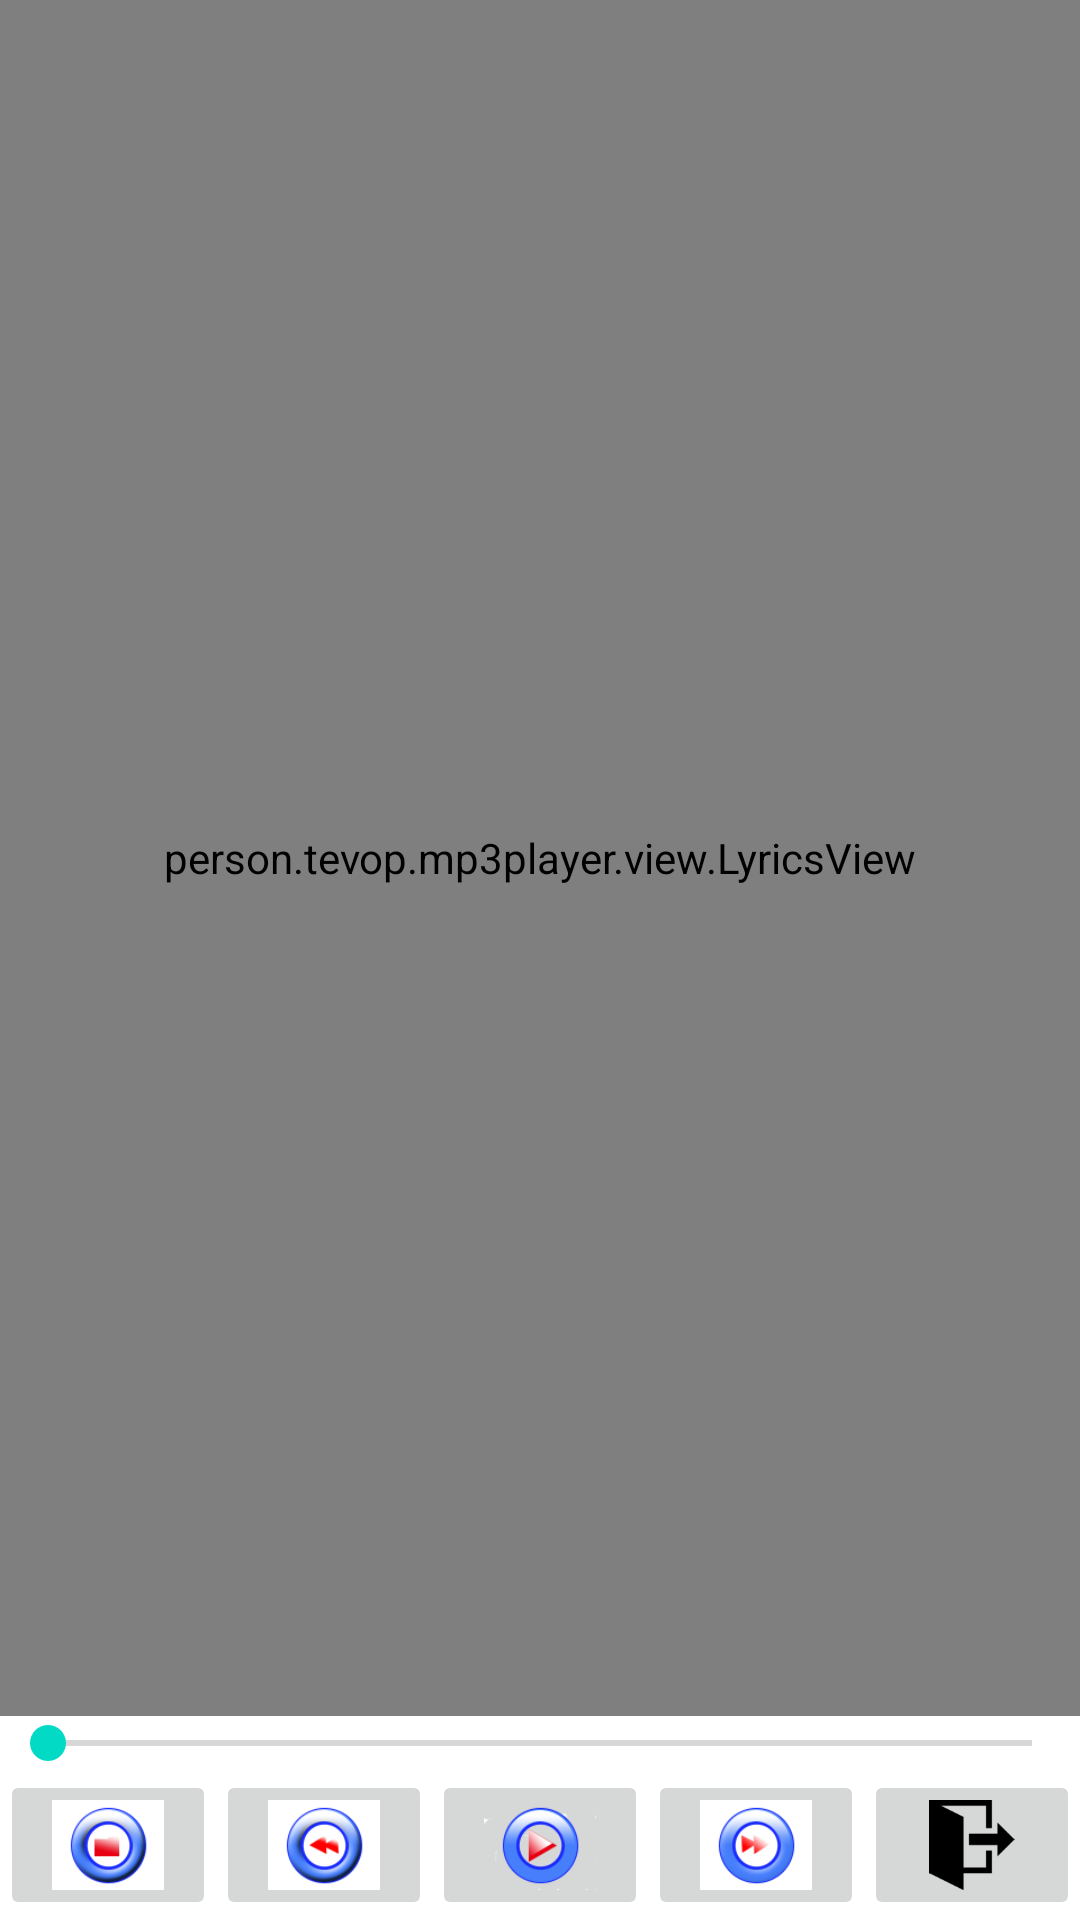

Icon click points for this 1080w x 1920h phone screenshot, format [x,y]:
exit: [972,1845]
next: [756,1845]
pre: [324,1845]
